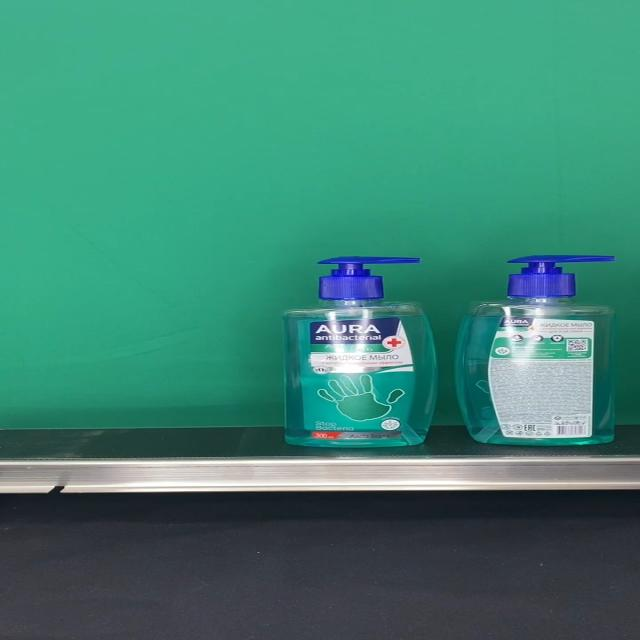Bottle: (454, 255, 616, 446), (281, 256, 438, 448)
Cap: (506, 255, 615, 298), (316, 257, 420, 299)
